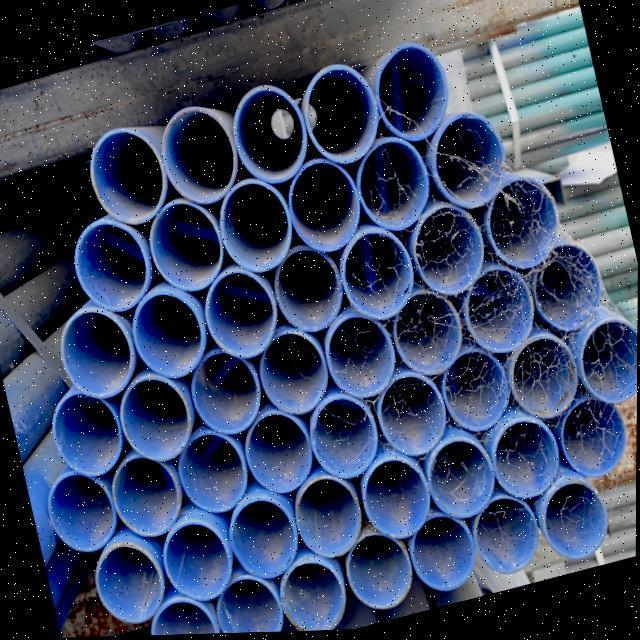pipe: (431, 111, 523, 212), (87, 126, 172, 231), (372, 39, 456, 141), (161, 99, 241, 206), (301, 61, 383, 165), (527, 244, 616, 336), (49, 383, 136, 477), (148, 197, 228, 299), (73, 216, 153, 317), (58, 305, 142, 401), (234, 82, 311, 186), (412, 200, 491, 300), (203, 263, 284, 360), (489, 176, 569, 274), (286, 154, 364, 254), (219, 178, 296, 278), (344, 224, 420, 323), (357, 137, 436, 232), (129, 288, 210, 380), (117, 370, 196, 464), (107, 453, 186, 541), (270, 246, 347, 335), (465, 265, 538, 358), (259, 327, 336, 415), (190, 346, 266, 435), (229, 495, 305, 584), (376, 372, 451, 462), (391, 286, 464, 378), (244, 409, 320, 497), (174, 430, 252, 514), (510, 334, 584, 422), (291, 476, 368, 560), (325, 314, 401, 399), (306, 397, 381, 482), (162, 519, 238, 601), (46, 474, 122, 556), (362, 456, 432, 544), (445, 350, 513, 439), (561, 396, 631, 482), (430, 440, 500, 524), (94, 541, 167, 621), (493, 418, 563, 501), (543, 479, 611, 562), (473, 495, 540, 577), (411, 514, 478, 595), (580, 314, 638, 407), (346, 533, 415, 611), (280, 559, 349, 633), (213, 576, 285, 635), (150, 597, 222, 636)
